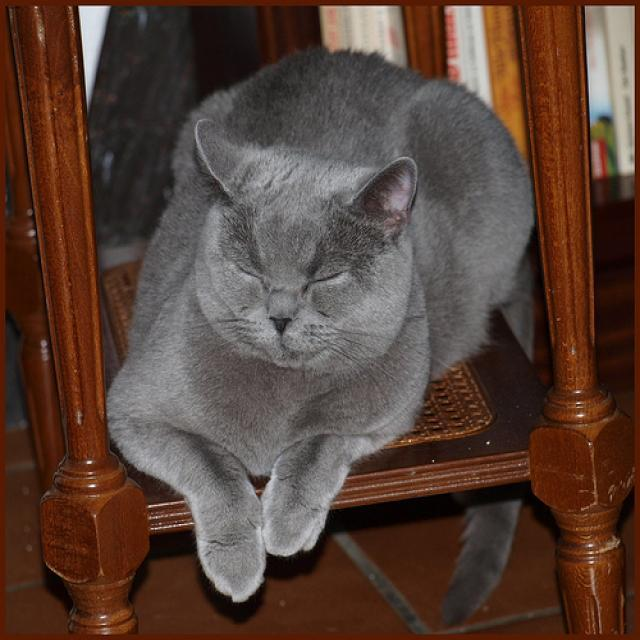British_Shorthair: (186, 118, 424, 393)
